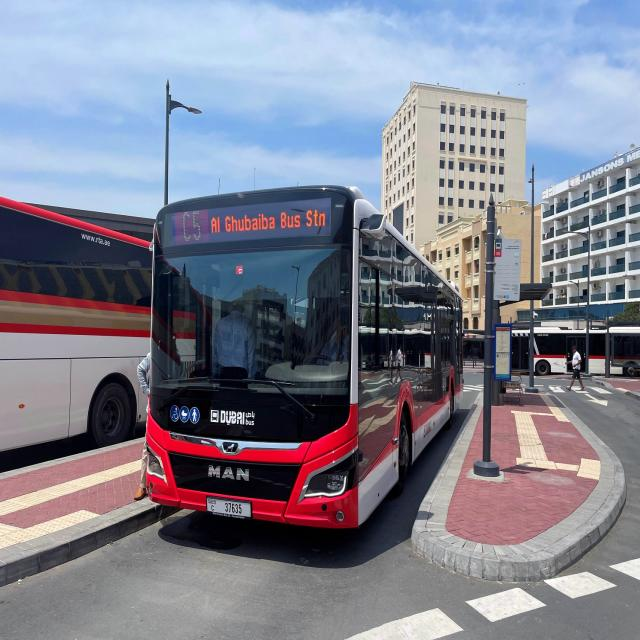bus: (152, 186, 462, 526)
